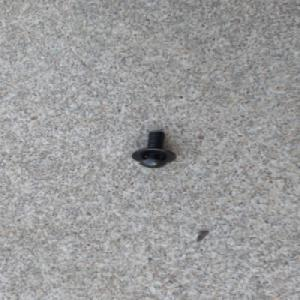BoltWasher: (132, 129, 177, 169)
